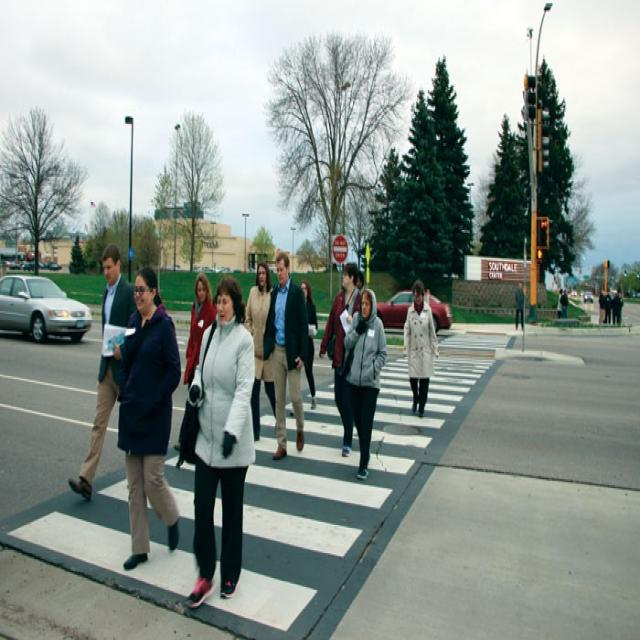body: (173, 273, 259, 610), (114, 266, 184, 575), (68, 240, 138, 503), (261, 249, 310, 463), (342, 284, 389, 483), (318, 260, 362, 458), (244, 259, 277, 444), (401, 277, 440, 419), (289, 278, 320, 418), (182, 272, 217, 389), (339, 267, 362, 370), (514, 279, 526, 333), (614, 288, 624, 328), (602, 287, 612, 326), (597, 286, 606, 326), (611, 289, 620, 326), (555, 286, 564, 322), (560, 289, 568, 320)
